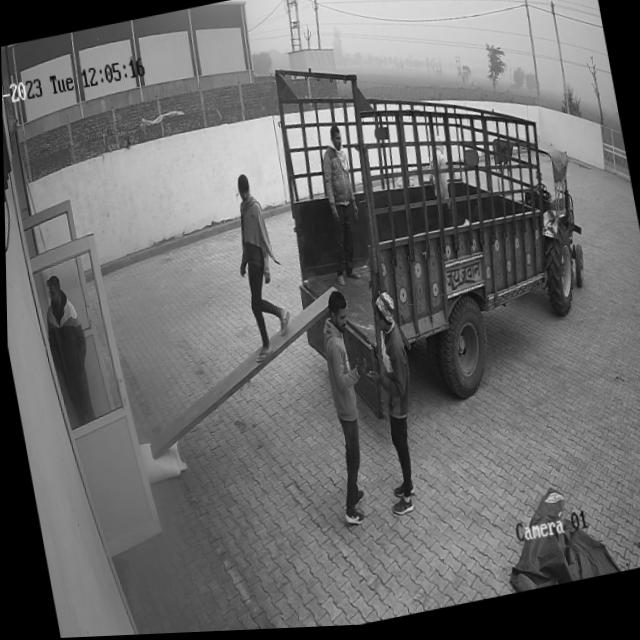sack: (137, 437, 186, 487)
